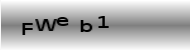1: (97, 15, 109, 28)
F: (21, 22, 33, 35)
W: (34, 18, 56, 31)
b: (79, 19, 93, 32)
e: (55, 16, 69, 26)
